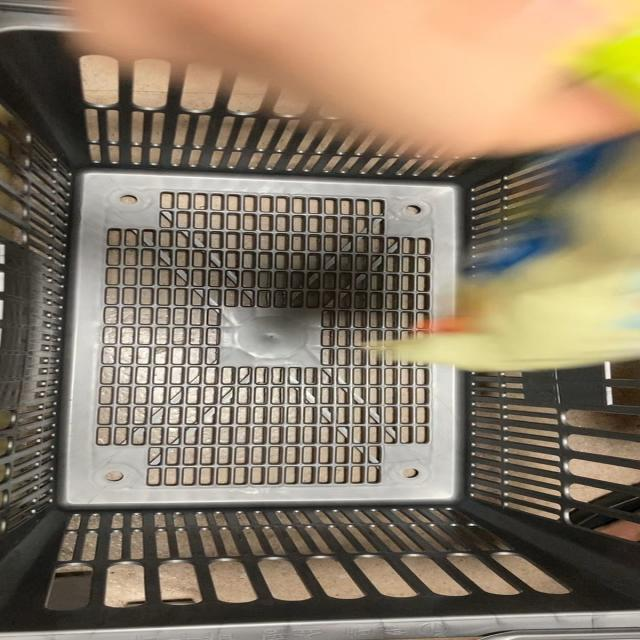ggobukchip: (356, 143, 640, 396)
